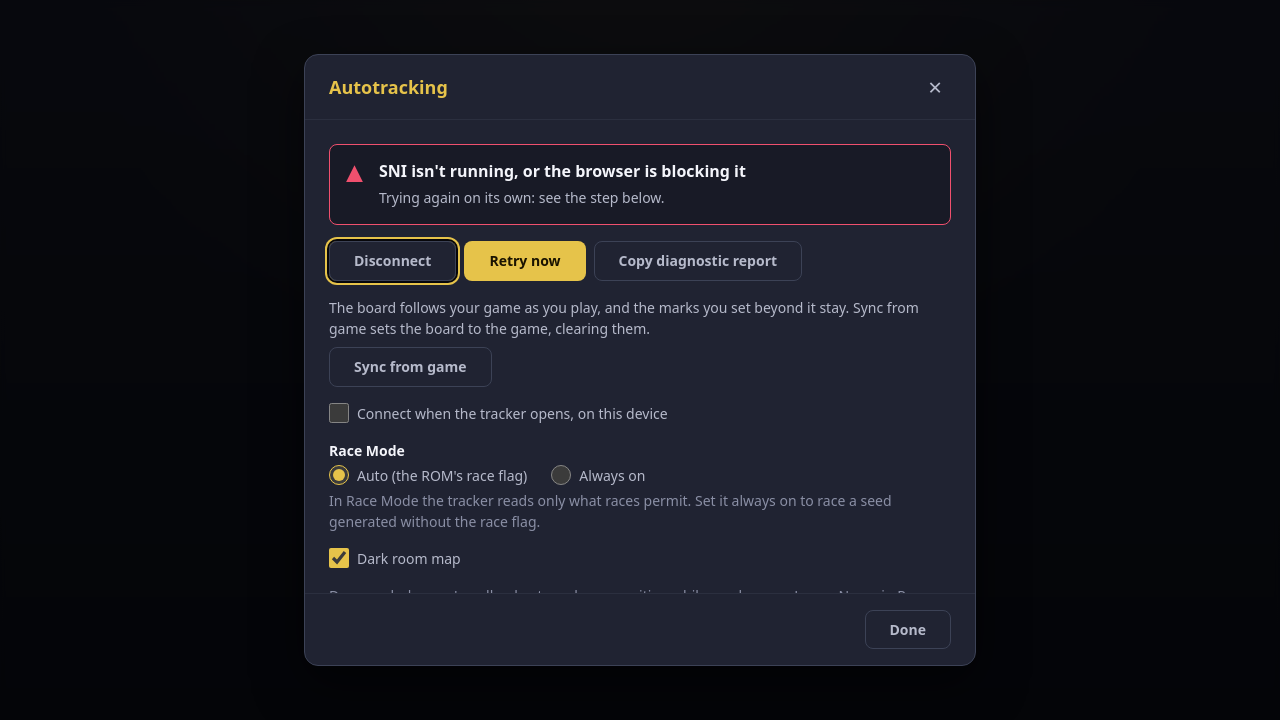
AutotrackDialog's actions › copies the diagnostic report
Step 1. Click the button with test id "autotrack-copy-report" → (698, 261), box [594, 241, 802, 281]
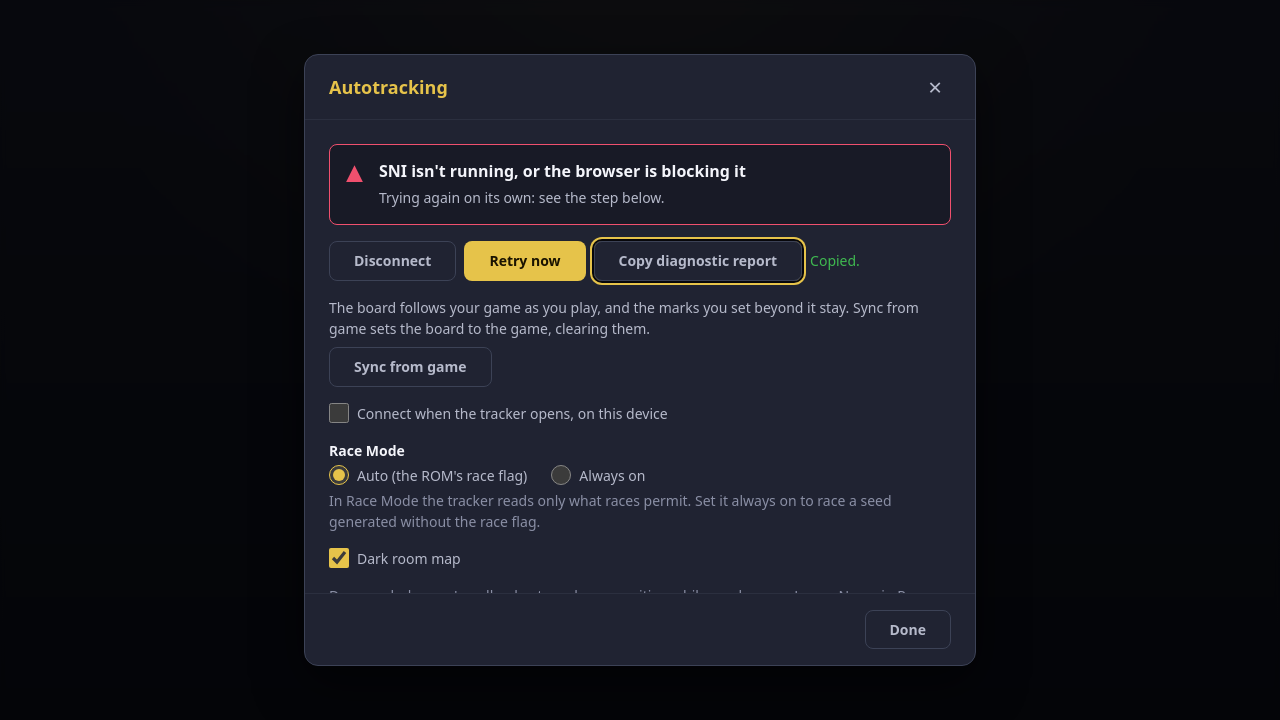
expect the text with test id "autotrack-copy-status" reads "Copied.": met, box [810, 251, 860, 270]
